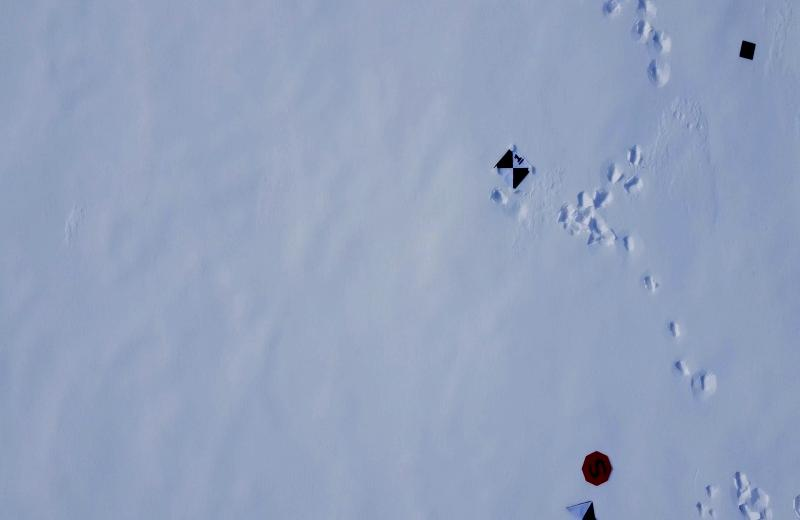Octagon: (581, 450, 613, 488)
Square: (736, 34, 758, 64)
